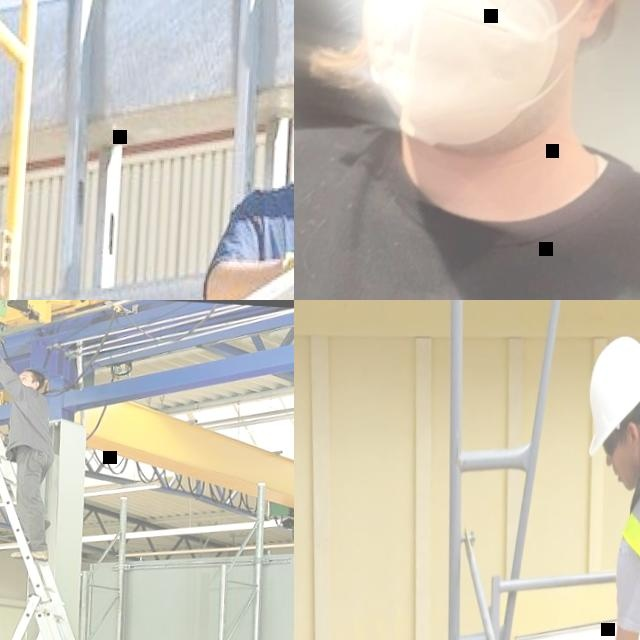Hardhat: (586, 333, 640, 456)
NO-Hardhat: (23, 369, 46, 386)
NO-Mask: (357, 0, 606, 157), (615, 448, 637, 491)
NO-Safety Vest: (294, 112, 640, 300), (8, 386, 55, 455)
Person: (294, 0, 640, 300), (192, 20, 294, 300), (0, 327, 63, 561)
